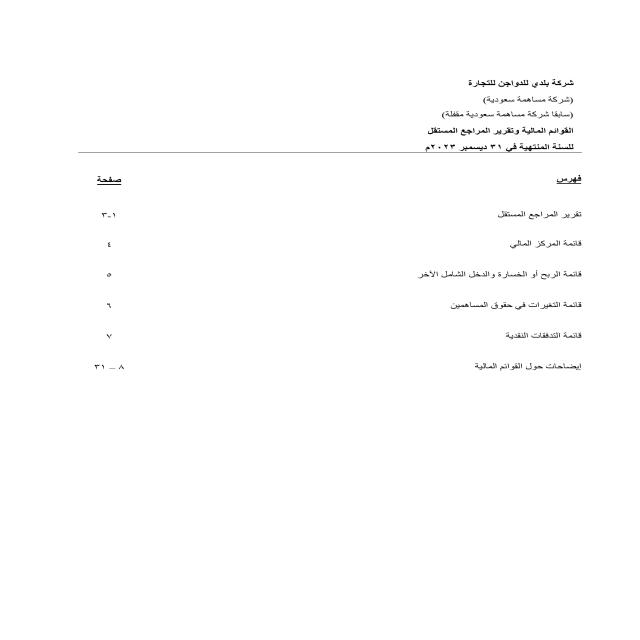other: (53, 170, 597, 387)
